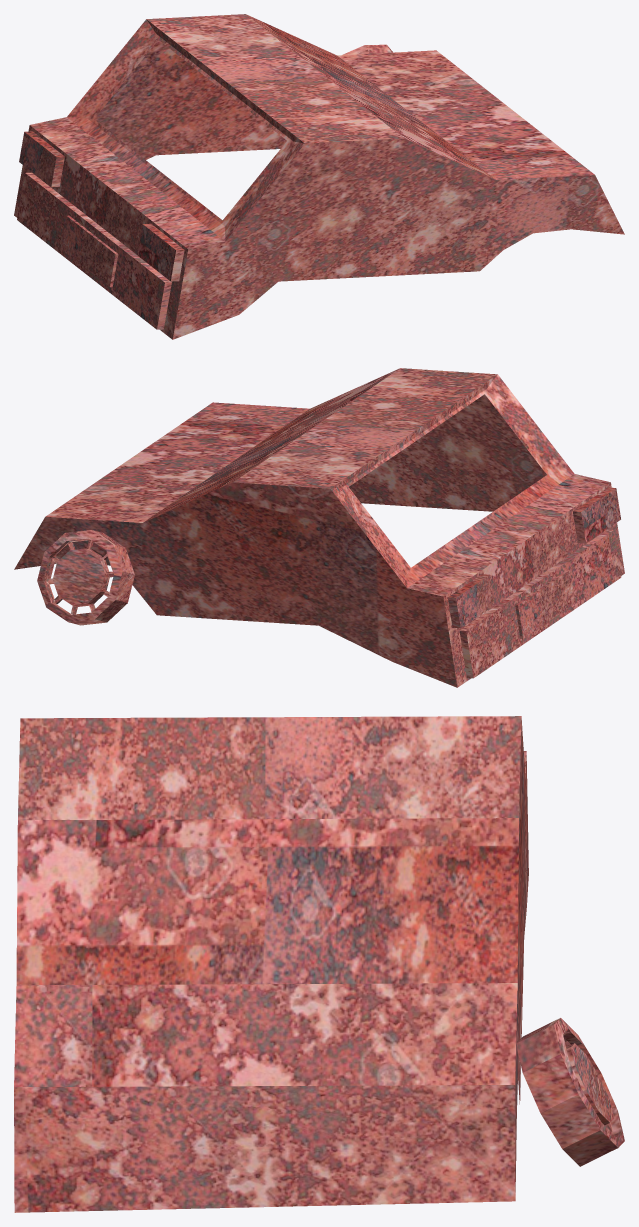
The model's file is Car.fbx.
3 renders of one model, top to bottom at view 1: azimuth 30°, elevation 25°; view 2: azimuth 150°, elevation 25°; view 3: azimuth 270°, elevation 25°, orthographic. The views are drawn at different scales.
Visible parts, largest first — view 1: Cube; view 2: Cube; view 3: Cube.
Boxes of the visible parts, x1=… form: Cube: x1=14, y1=14, x2=624, y2=339; Cube: x1=14, y1=368, x2=624, y2=687; Cube: x1=14, y1=716, x2=624, y2=1212.
Size of the model in its own units: 1113 by 410 by 834.
